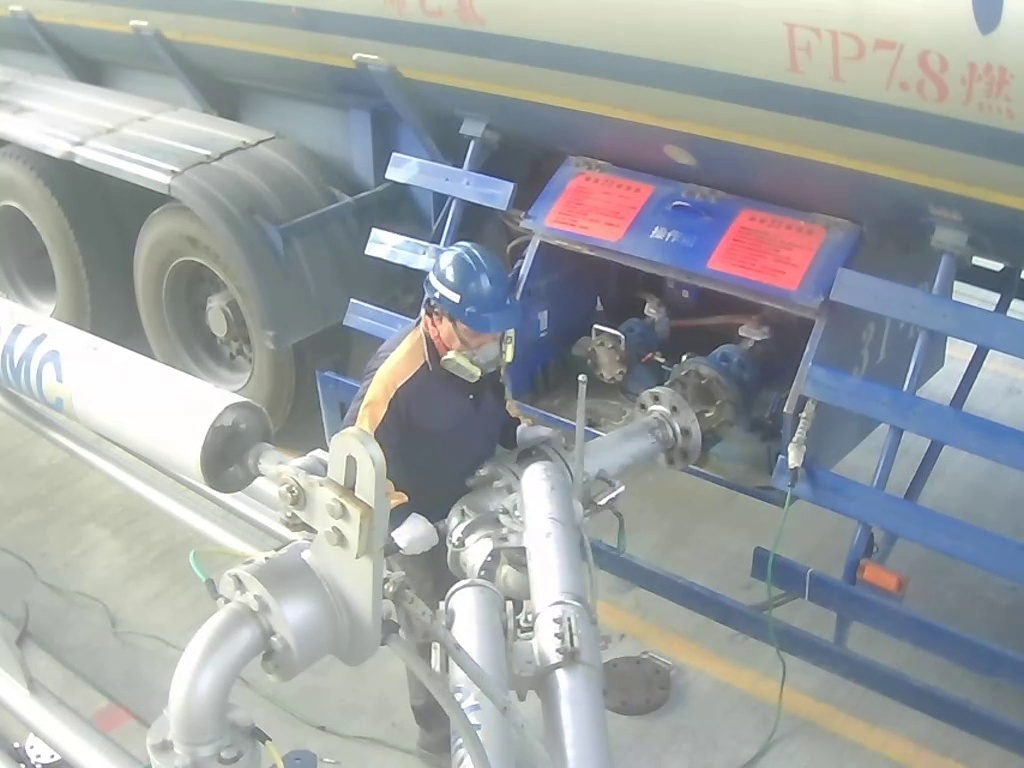helmet: (415, 238, 532, 384)
mask: (441, 337, 516, 380)
person: (332, 234, 606, 622)
